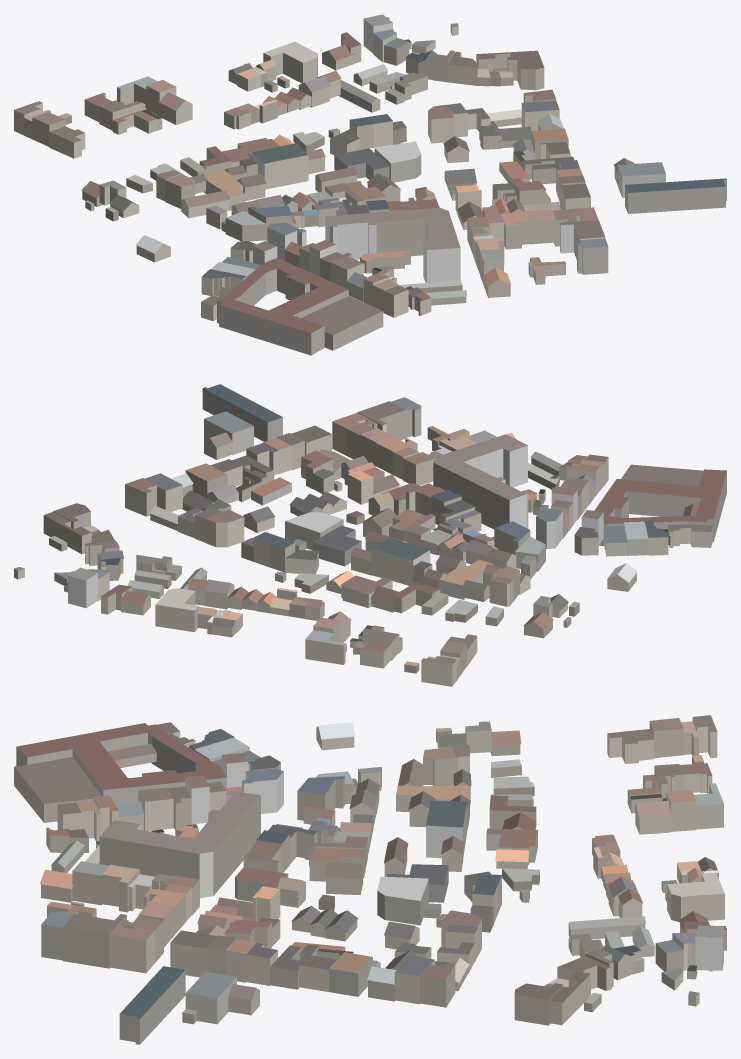
The picture shows the model from 3 angles, top to bottom: view 1: azimuth 30°, elevation 25°; view 2: azimuth 150°, elevation 25°; view 3: azimuth 270°, elevation 25°; orthographic projection. The views are drawn at different scales.
Visible parts, largest first — view 1: tuile; view 2: tuile; view 3: tuile.
Part boxes in pixels (x1,y1,x2,y2): tuile: (14,14,726,355); tuile: (14,384,726,686); tuile: (14,715,726,1044).
Size of the model in its own units: 275 by 21.72 by 270.
